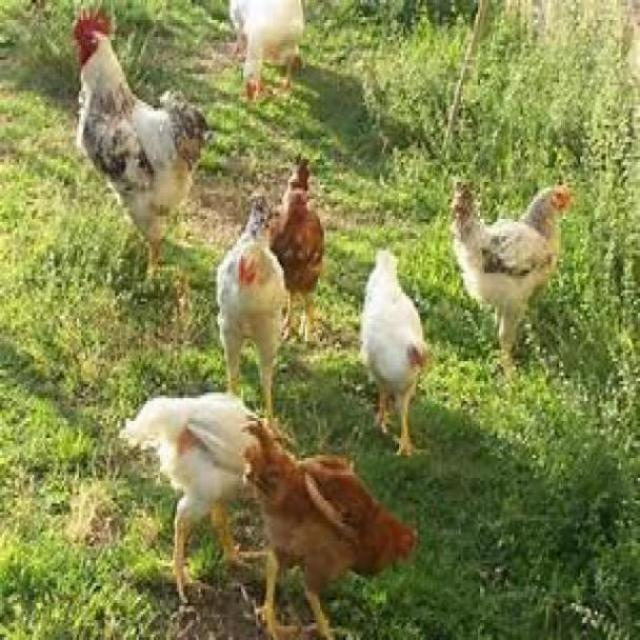Chicken: (241, 414, 415, 640), (75, 9, 209, 268), (120, 393, 267, 603), (452, 179, 572, 361), (215, 194, 286, 418), (358, 250, 429, 458), (267, 157, 326, 336), (230, 0, 305, 100)
